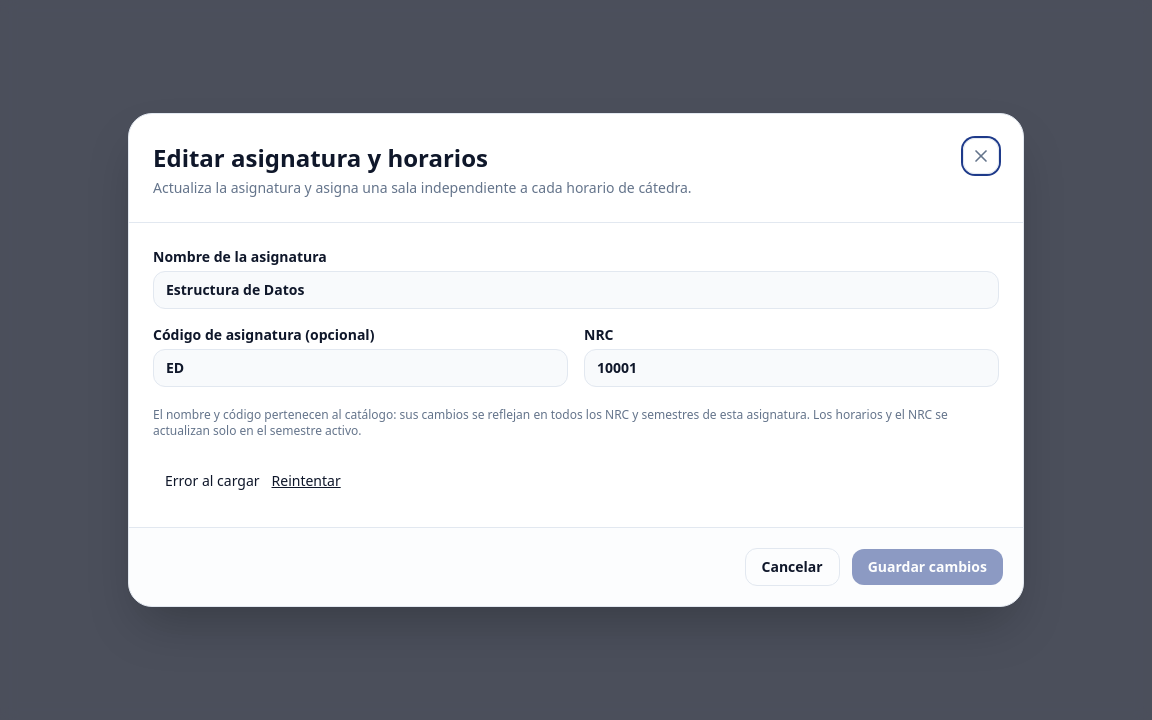
Test: Editor de asignaturas › permite reintentar la carga de bloques
expect the message "Error al cargar Reintentar" is shown: met, box [165,471,341,491]
Click the button "Reintentar".
click(306, 481)  # box [272,471,341,491]
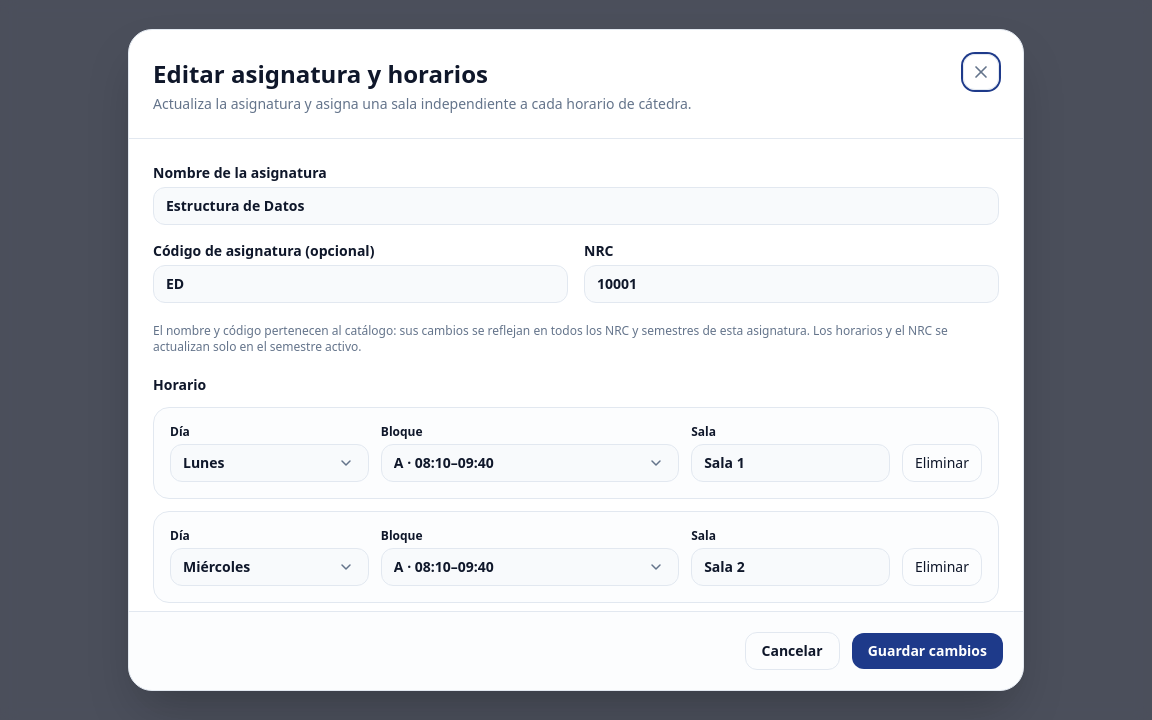
expect the number of fields labelled "Sala" is 2: met, box [691,444,890,482]; [691,548,890,586]
